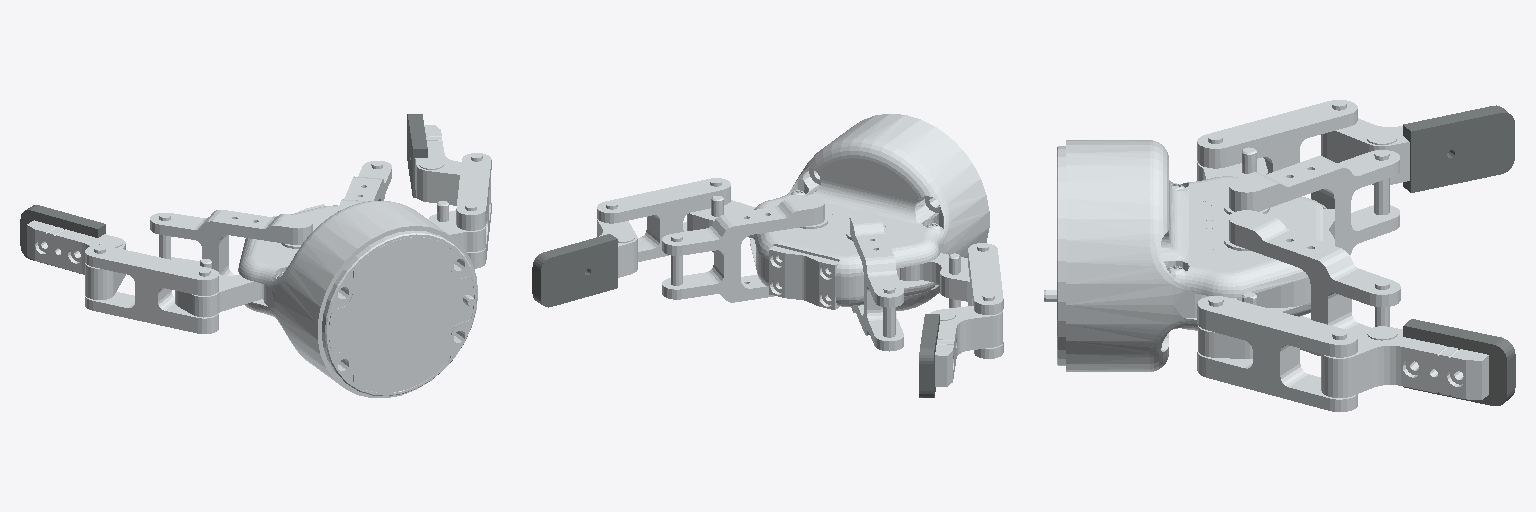
The robot description file, URDF, robot "ur5e":
<?xml version="1.0" encoding="utf-8"?>

<robot name="ur5e" xmlns:xacro="http://ros.org/wiki/xacro">

  <link name="base_link">
    <visual>
      <geometry>
        <mesh filename="./meshes/ur5e/visual/base.dae"/>
      </geometry>
      <material name="LightGrey">
        <color rgba="0.7 0.7 0.7 1.0"/>
      </material>
    </visual>
    <collision>
      <geometry>
        <mesh filename="./meshes/ur5e/collision/base.stl" scale="1.0 1.0 1.0"/>
      </geometry>
    </collision>
    <inertial>
      <mass value="4.0"/>
      <origin rpy="0 0 0" xyz="0.0 0.0 0.0"/>
      <inertia ixx="0.00443333156" ixy="0.0" ixz="0.0" iyy="0.00443333156" iyz="0.0" izz="0.0072"/>
    </inertial>
  </link>
  <joint name="shoulder_pan_joint" type="revolute">
    <parent link="base_link"/>
    <child link="shoulder_link"/>
    <origin rpy="0.0 0.0 0.0" xyz="0.0 0.0 0.163"/>
    <axis xyz="0 0 1"/>
    <limit effort="150.0" lower="-6.28318530718" upper="6.28318530718" velocity="3.14"/>
    <dynamics damping="0.0" friction="0.0"/>
  </joint>
  <link name="shoulder_link">
    <visual>
      <geometry>
        <mesh filename="./meshes/ur5e/visual/shoulder.dae"/>
      </geometry>
      <material name="LightGrey">
        <color rgba="0.7 0.7 0.7 1.0"/>
      </material>
    </visual>
    <collision>
      <geometry>
        <mesh filename="./meshes/ur5e/collision/shoulder.stl" scale="1.0 1.0 1.0"/>
      </geometry>
    </collision>
    <inertial>
      <mass value="3.7"/>
      <origin rpy="0 0 0" xyz="0.0 0.0 0.0"/>
      <inertia ixx="0.010267495893" ixy="0.0" ixz="0.0" iyy="0.010267495893" iyz="0.0" izz="0.00666"/>
    </inertial>
  </link>
  <joint name="shoulder_lift_joint" type="revolute">
    <parent link="shoulder_link"/>
    <child link="upper_arm_link"/>
    <origin rpy="0.0 1.57079632679 0.0" xyz="0.0 0.138 0.0"/>
    <axis xyz="0 1 0"/>
    <limit effort="150.0" lower="-6.28318530718" upper="6.28318530718" velocity="3.14"/>
    <dynamics damping="0.0" friction="0.0"/>
  </joint>
  <link name="upper_arm_link">
    <visual>
      <geometry>
        <mesh filename="./meshes/ur5e/visual/upperarm.dae"/>
      </geometry>
      <material name="LightGrey">
        <color rgba="0.7 0.7 0.7 1.0"/>
      </material>
    </visual>
    <collision>
      <geometry>
        <mesh filename="./meshes/ur5e/collision/upperarm.stl" scale="1.0 1.0 1.0"/>
      </geometry>
    </collision>
    <inertial>
      <mass value="8.393"/>
      <origin rpy="0 0 0" xyz="0.0 0.0 0.2125"/>
      <inertia ixx="0.133885781862" ixy="0.0" ixz="0.0" iyy="0.133885781862" iyz="0.0" izz="0.0151074"/>
    </inertial>
  </link>
  <joint name="elbow_joint" type="revolute">
    <parent link="upper_arm_link"/>
    <child link="forearm_link"/>
    <origin rpy="0.0 0.0 0.0" xyz="0.0 -0.131 0.425"/>
    <axis xyz="0 1 0"/>
    <limit effort="150.0" lower="-3.14159265359" upper="3.14159265359" velocity="3.14"/>
    <dynamics damping="0.0" friction="0.0"/>
  </joint>
  <link name="forearm_link">
    <visual>
      <geometry>
        <mesh filename="./meshes/ur5e/visual/forearm.dae"/>
      </geometry>
      <material name="LightGrey">
        <color rgba="0.7 0.7 0.7 1.0"/>
      </material>
    </visual>
    <collision>
      <geometry>
        <mesh filename="./meshes/ur5e/collision/forearm.stl" scale="1.0 1.0 1.0"/>
      </geometry>
    </collision>
    <inertial>
      <mass value="2.275"/>
      <origin rpy="0 0 0" xyz="0.0 0.0 0.196"/>
      <inertia ixx="0.0311796208615" ixy="0.0" ixz="0.0" iyy="0.0311796208615" iyz="0.0" izz="0.004095"/>
    </inertial>
  </link>
  <joint name="wrist_1_joint" type="revolute">
    <parent link="forearm_link"/>
    <child link="wrist_1_link"/>
    <origin rpy="0.0 1.57079632679 0.0" xyz="0.0 0.0 0.392"/>
    <axis xyz="0 1 0"/>
    <limit effort="28.0" lower="-6.28318530718" upper="6.28318530718" velocity="6.28"/>
    <dynamics damping="0.0" friction="0.0"/>
  </joint>
  <link name="wrist_1_link">
    <visual>
      <geometry>
        <mesh filename="./meshes/ur5e/visual/wrist1.dae"/>
      </geometry>
      <material name="LightGrey">
        <color rgba="0.7 0.7 0.7 1.0"/>
      </material>
    </visual>
    <collision>
      <geometry>
        <mesh filename="./meshes/ur5e/collision/wrist1.stl" scale="1.0 1.0 1.0"/>
      </geometry>
    </collision>
    <inertial>
      <mass value="1.219"/>
      <origin rpy="0 0 0" xyz="0.0 0.127 0.0"/>
      <inertia ixx="0.00255989897604" ixy="0.0" ixz="0.0" iyy="0.00255989897604" iyz="0.0" izz="0.0021942"/>
    </inertial>
  </link>
  <joint name="wrist_2_joint" type="revolute">
    <parent link="wrist_1_link"/>
    <child link="wrist_2_link"/>
    <origin rpy="0.0 0.0 0.0" xyz="0.0 0.127 0.0"/>
    <axis xyz="0 0 1"/>
    <limit effort="28.0" lower="-6.28318530718" upper="6.28318530718" velocity="6.28"/>
    <dynamics damping="0.0" friction="0.0"/>
  </joint>
  <link name="wrist_2_link">
    <visual>
      <geometry>
        <mesh filename="./meshes/ur5e/visual/wrist2.dae"/>
      </geometry>
      <material name="LightGrey">
        <color rgba="0.7 0.7 0.7 1.0"/>
      </material>
    </visual>
    <collision>
      <geometry>
        <mesh filename="./meshes/ur5e/collision/wrist2.stl" scale="1.0 1.0 1.0"/>
      </geometry>
    </collision>
    <inertial>
      <mass value="1.219"/>
      <origin rpy="0 0 0" xyz="0.0 0.0 0.1"/>
      <inertia ixx="0.00255989897604" ixy="0.0" ixz="0.0" iyy="0.00255989897604" iyz="0.0" izz="0.0021942"/>
    </inertial>
  </link>
  <joint name="wrist_3_joint" type="revolute">
    <parent link="wrist_2_link"/>
    <child link="wrist_3_link"/>
    <origin rpy="0.0 0.0 0.0" xyz="0.0 0.0 0.1"/>
    <axis xyz="0 1 0"/>
    <limit effort="28.0" lower="-6.28318530718" upper="6.28318530718" velocity="6.28"/>
    <dynamics damping="0.0" friction="0.0"/>
  </joint>
  <link name="wrist_3_link">
    <visual>
      <geometry>
        <mesh filename="./meshes/ur5e/visual/wrist3.dae"/>
      </geometry>
      <material name="LightGrey">
        <color rgba="0.7 0.7 0.7 1.0"/>
      </material>
    </visual>
    <collision>
      <geometry>
        <mesh filename="./meshes/ur5e/collision/wrist3.stl" scale="1.0 1.0 1.0"/>
      </geometry>
    </collision>
    <inertial>
      <mass value="0.1879"/>
      <origin rpy="1.57079632679 0 0" xyz="0.0 0.0771 0.0"/>
      <inertia ixx="9.89041005217e-05" ixy="0.0" ixz="0.0" iyy="9.89041005217e-05" iyz="0.0" izz="0.0001321171875"/>
    </inertial>
  </link>
  <joint name="ee_fixed_joint" type="fixed">
    <parent link="wrist_3_link"/>
    <child link="ee_link"/>
    <origin rpy="0.0 0.0 1.57079632679" xyz="0.0 0.1 0.0"/>
  </joint>
  <link name="ee_link">
    <collision>
      <geometry>
        <box size="0.01 0.01 0.01"/>
      </geometry>
      <origin rpy="0 0 0" xyz="-0.01 0 0"/>
    </collision>
  </link>
  <!-- ADD GRIPPER HERE -->
  <joint name="ee_link_gripper_base_joint" type="fixed">
    <origin rpy="0 0 1.5707963267948966" xyz="0 0 0"/>
    <parent link="ee_link"/>
    <child link="gripper_base"/>
  </joint>
  <link name="gripper_base">
    <inertial>
      <origin rpy="0 0 0" xyz="6.91E-06 4.4117E-06 0.031656"/>
      <mass value="0.60831"/>
      <inertia ixx="0.0004596" ixy="1.5559E-09" ixz="1.397E-07" iyy="0.0005181" iyz="-1.0325E-11" izz="0.00036051"/>
    </inertial>
    <visual>
      <origin rpy="0 0 0" xyz="0 0 0"/>
      <geometry>
        <mesh filename="./meshes/robotiq_2f85/base.STL"/>
      </geometry>
      <material name="">
        <color rgba="0.89804 0.91765 0.92941 0.25"/>
      </material>
    </visual>
    <collision>
      <origin rpy="0 0 0" xyz="0 0 0"/>
      <geometry>
        <mesh filename="./meshes/robotiq_2f85/base.STL"/>
      </geometry>
    </collision>
  </link>
  <link name="gripper_right_spring_link">
    <inertial>
      <origin rpy="0 0 0" xyz="-9.7222E-12 0.028253 6.791E-10"/>
      <mass value="0.029951"/>
      <inertia ixx="1.5103E-05" ixy="-1.0709E-16" ixz="-2.654E-15" iyy="5.0789E-06" iyz="3.2666E-14" izz="1.0707E-05"/>
    </inertial>
    <visual>
      <origin rpy="0 0 0" xyz="0 0 0"/>
      <geometry>
        <mesh filename="./meshes/robotiq_2f85/right_spring_link.STL"/>
      </geometry>
      <material name="">
        <color rgba="0.89804 0.91765 0.92941 1"/>
      </material>
    </visual>
    <collision>
      <origin rpy="0 0 0" xyz="0 0 0"/>
      <geometry>
        <mesh filename="./meshes/robotiq_2f85/right_spring_link.STL"/>
      </geometry>
    </collision>
  </link>
  <joint name="gripper_right_spring_link_joint" type="revolute">
    <origin rpy="3.1416 0 0.6983" xyz="0.0127 -0.061307 0"/>
    <parent link="gripper_base"/>
    <child link="gripper_right_spring_link"/>
    <axis xyz="0 0 1"/>
    <limit effort="0" lower="0" upper="0.7854" velocity="0"/>
  </joint>
  <link name="gripper_left_spring_link">
    <inertial>
      <origin rpy="0 0 0" xyz="-8.05421701555176E-13 0.0282525952540491 7.27854432947014E-10"/>
      <mass value="0.0299513316731757"/>
      <inertia ixx="1.51025275365861E-05" ixy="1.3893966137107E-16" ixz="-5.21047318848845E-15" iyy="5.07891354120236E-06" iyz="3.47379370230503E-14" izz="1.0706817344978E-05"/>
    </inertial>
    <visual>
      <origin rpy="0 0 0" xyz="0 0 0"/>
      <geometry>
        <mesh filename="./meshes/robotiq_2f85/left_spring_link.STL"/>
      </geometry>
      <material name="">
        <color rgba="0.898039215686275 0.917647058823529 0.929411764705882 1"/>
      </material>
    </visual>
    <collision>
      <origin rpy="0 0 0" xyz="0 0 0"/>
      <geometry>
        <mesh filename="./meshes/robotiq_2f85/left_spring_link.STL"/>
      </geometry>
    </collision>
  </link>
  <joint name="gripper_left_spring_link_joint" type="revolute">
    <origin rpy="3.1416 0 -0.70092" xyz="-0.0127 -0.061307 0"/>
    <parent link="gripper_base"/>
    <child link="gripper_left_spring_link"/>
    <axis xyz="0 0 1"/>
    <limit effort="0" lower="-0.7854" upper="0" velocity="0"/>
  </joint>
  <link name="gripper_right_driver">
    <inertial>
      <origin rpy="0 0 0" xyz="0.0179377478479594 0.000926031753317007 -4.0741034207454E-11"/>
      <mass value="0.0184906489409923"/>
      <inertia ixx="6.79440339903172E-07" ixy="-2.0728790158877E-07" ixz="5.46290681974064E-15" iyy="3.45929623837714E-06" iyz="7.55029433009734E-15" izz="3.75009298146153E-06"/>
    </inertial>
    <visual>
      <origin rpy="0 0 0" xyz="0 0 0"/>
      <geometry>
        <mesh filename="./meshes/robotiq_2f85/right_driver.STL"/>
      </geometry>
      <material name="">
        <color rgba="0.898039215686275 0.917647058823529 0.929411764705882 1"/>
      </material>
    </visual>
    <collision>
      <origin rpy="0 0 0" xyz="0 0 0"/>
      <geometry>
        <mesh filename="./meshes/robotiq_2f85/right_driver.STL"/>
      </geometry>
    </collision>
  </link>
  <joint name="gripper_right_driver_joint" type="revolute">
    <origin rpy="3.1416 0 -0.019735" xyz="0.030601 -0.054792 0"/>
    <parent link="gripper_base"/>
    <child link="gripper_right_driver"/>
    <axis xyz="0 0 1"/>
    <limit effort="150" lower="-3.1416" upper="3.1416" velocity="0"/>
  </joint>
  <link name="gripper_right_coupler">
    <inertial>
      <origin rpy="0 0 0" xyz="-0.00277693278884095 0.0214010778170948 -2.64117771736162E-15"/>
      <mass value="0.0273093985570947"/>
      <inertia ixx="8.4351877262463E-06" ixy="8.05599897942411E-07" ixz="3.98563616297657E-19" iyy="2.33117687880373E-06" iyz="-6.91949626399278E-19" izz="6.9133328065108E-06"/>
    </inertial>
    <visual>
      <origin rpy="0 0 0" xyz="0 0 0"/>
      <geometry>
        <mesh filename="./meshes/robotiq_2f85/right_coupler.STL"/>
      </geometry>
      <material name="">
        <color rgba="0.898039215686275 0.917647058823529 0.929411764705882 1"/>
      </material>
    </visual>
    <collision>
      <origin rpy="0 0 0" xyz="0 0 0"/>
      <geometry>
        <mesh filename="./meshes/robotiq_2f85/right_coupler.STL"/>
      </geometry>
    </collision>
  </link>
  <joint name="gripper_right_coupler_joint" type="revolute">
    <origin rpy="0 0 -0.25804" xyz="0.031486 -0.0040855 0"/>
    <parent link="gripper_right_driver"/>
    <child link="gripper_right_coupler"/>
    <axis xyz="0 0 -1"/>
    <limit effort="0" lower="0.13" upper="0.79" velocity="0"/>
  </joint>
  <link name="gripper_right_follower">
    <inertial>
      <origin rpy="0 0 0" xyz="0.0118738800643238 0.013213950103123 -6.42371679073841E-16"/>
      <mass value="0.0195548943464751"/>
      <inertia ixx="3.99125345460037E-06" ixy="-9.32228708142781E-07" ixz="-1.06756339811242E-18" iyy="1.28831055431048E-06" iyz="-9.53069862405573E-19" izz="4.59174098263665E-06"/>
    </inertial>
    <visual>
      <origin rpy="0 0 0" xyz="0 0 0"/>
      <geometry>
        <mesh filename="./meshes/robotiq_2f85/right_follower.STL"/>
      </geometry>
      <material name="">
        <color rgba="0.898039215686275 0.917647058823529 0.929411764705882 1"/>
      </material>
    </visual>
    <collision>
      <origin rpy="0 0 0" xyz="0 0 0"/>
      <geometry>
        <mesh filename="./meshes/robotiq_2f85/right_follower.STL"/>
      </geometry>
    </collision>
  </link>
  <joint name="gripper_right_follower_joint" type="revolute">
    <origin rpy="3.1416 0 -2.9033" xyz="-0.0061148 0.047125 0"/>
    <parent link="gripper_right_coupler"/>
    <child link="gripper_right_follower"/>
    <axis xyz="0 0 1"/>
    <limit effort="0" lower="-3.1416" upper="3.1416" velocity="0"/>
  </joint>
  <link name="gripper_right_pad">
    <inertial>
      <origin rpy="0 0 0" xyz="0.000197179990555962 0.003 -5.73415880070697E-15"/>
      <mass value="0.0112846745192962"/>
      <inertia ixx="4.84198905594698E-07" ixy="1.17467826101044E-22" ixz="-2.69493952498347E-22" iyy="1.75287448520128E-06" iyz="3.01393554780919E-23" izz="1.33638362672235E-06"/>
    </inertial>
    <visual>
      <origin rpy="0 0 0" xyz="0 0 0"/>
      <geometry>
        <mesh filename="./meshes/robotiq_2f85/right_pad.STL"/>
      </geometry>
      <material name="">
        <color rgba="0.529411764705882 0.549019607843137 0.549019607843137 1"/>
      </material>
    </visual>
    <collision>
      <origin rpy="0 0 0" xyz="0 0 0"/>
      <geometry>
        <mesh filename="./meshes/robotiq_2f85/right_pad.STL"/>
      </geometry>
    </collision>
  </link>
  <joint name="gripper_right_pad_joint" type="fixed">
    <origin rpy="3.1416 0 -1.5708" xyz="0.024903 0.032264 0"/>
    <parent link="gripper_right_follower"/>
    <child link="gripper_right_pad"/>
    <axis xyz="0 1 0"/>
    <limit effort="5" lower="0" upper="0.003" velocity="0.1"/>
  </joint>
  <link name="gripper_left_driver">
    <inertial>
      <origin rpy="0 0 0" xyz="0.0179377478480944 0.000926031754016808 -4.09476305946672E-11"/>
      <mass value="0.0184906489414316"/>
      <inertia ixx="6.79440340033055E-07" ixy="-2.07287901659297E-07" ixz="5.48822371152932E-15" iyy="3.45929623843939E-06" iyz="7.56200742857023E-15" izz="3.75009298156646E-06"/>
    </inertial>
    <visual>
      <origin rpy="0 0 0" xyz="0 0 0"/>
      <geometry>
        <mesh filename="./meshes/robotiq_2f85/left_driver.STL"/>
      </geometry>
      <material name="">
        <color rgba="0.898039215686275 0.917647058823529 0.929411764705882 1"/>
      </material>
    </visual>
    <collision>
      <origin rpy="0 0 0" xyz="0 0 0"/>
      <geometry>
        <mesh filename="./meshes/robotiq_2f85/left_driver.STL"/>
      </geometry>
    </collision>
  </link>
  <joint name="gripper_left_driver_joint" type="revolute">
    <origin rpy="0 0 -3.1245" xyz="-0.030601 -0.054792 0"/>
    <parent link="gripper_base"/>
    <child link="gripper_left_driver"/>
    <axis xyz="0 0 1"/>
    <limit effort="150" lower="-3.1416" upper="3.1416" velocity="0"/>
  </joint>
  <link name="gripper_left_coupler">
    <inertial>
      <origin rpy="0 0 0" xyz="-0.00277693278884093 0.0214010778170948 -2.65696393157366E-15"/>
      <mass value="0.0273093985570947"/>
      <inertia ixx="8.43518772624629E-06" ixy="8.05599897942414E-07" ixz="3.98028057558574E-19" iyy="2.33117687880373E-06" iyz="-6.91715450328278E-19" izz="6.9133328065108E-06"/>
    </inertial>
    <visual>
      <origin rpy="0 0 0" xyz="0 0 0"/>
      <geometry>
        <mesh filename="./meshes/robotiq_2f85/left_coupler.STL"/>
      </geometry>
      <material name="">
        <color rgba="0.898039215686275 0.917647058823529 0.929411764705882 1"/>
      </material>
    </visual>
    <collision>
      <origin rpy="0 0 0" xyz="0 0 0"/>
      <geometry>
        <mesh filename="./meshes/robotiq_2f85/left_coupler.STL"/>
      </geometry>
    </collision>
  </link>
  <joint name="gripper_left_coupler_joint" type="revolute">
    <origin rpy="3.1416 0 -3.1416" xyz="0.031486 -0.0040855 0"/>
    <parent link="gripper_left_driver"/>
    <child link="gripper_left_coupler"/>
    <axis xyz="0 0 1"/>
    <limit effort="0" lower="0.13" upper="0.79" velocity="0"/>
  </joint>
  <link name="gripper_left_follower">
    <inertial>
      <origin rpy="0 0 0" xyz="0.0118738800643238 0.013213950103123 2.13813023929037E-15"/>
      <mass value="0.0195548943464751"/>
      <inertia ixx="3.99125345460038E-06" ixy="-9.32228708142783E-07" ixz="-1.06843707618223E-18" iyy="1.28831055431048E-06" iyz="-9.54631781105362E-19" izz="4.59174098263666E-06"/>
    </inertial>
    <visual>
      <origin rpy="0 0 0" xyz="0 0 0"/>
      <geometry>
        <mesh filename="./meshes/robotiq_2f85/left_follower.STL"/>
      </geometry>
      <material name="">
        <color rgba="0.898039215686275 0.917647058823529 0.929411764705882 1"/>
      </material>
    </visual>
    <collision>
      <origin rpy="0 0 0" xyz="0 0 0"/>
      <geometry>
        <mesh filename="./meshes/robotiq_2f85/left_follower.STL"/>
      </geometry>
    </collision>
  </link>
  <joint name="gripper_left_follower_joint" type="revolute">
    <origin rpy="0 0 0.017192" xyz="-0.0061148 0.047125 0"/>
    <parent link="gripper_left_coupler"/>
    <child link="gripper_left_follower"/>
    <axis xyz="0 0 1"/>
    <limit effort="0" lower="-3.1416" upper="3.1416" velocity="0"/>
  </joint>
  <link name="gripper_left_pad">
    <inertial>
      <origin rpy="0 0 0" xyz="0.00019717999055599 0.003 8.49842392779646E-15"/>
      <mass value="0.0112846745192961"/>
      <inertia ixx="4.84198905594697E-07" ixy="7.66025016740815E-22" ixz="4.8234593310579E-23" iyy="1.75287448520127E-06" iyz="-9.35905899337494E-24" izz="1.33638362672235E-06"/>
    </inertial>
    <visual>
      <origin rpy="0 0 0" xyz="0 0 0"/>
      <geometry>
        <mesh filename="./meshes/robotiq_2f85/left_pad.STL"/>
      </geometry>
      <material name="">
        <color rgba="0.529411764705882 0.549019607843137 0.549019607843137 1"/>
      </material>
    </visual>
    <collision>
      <origin rpy="0 0 0" xyz="0 0 0"/>
      <geometry>
        <mesh filename="./meshes/robotiq_2f85/left_pad.STL"/>
      </geometry>
    </collision>
  </link>
  <joint name="gripper_left_pad_joint" type="prismatic">
    <origin rpy="0 0 -1.5708" xyz="0.018903 0.032265 0"/>
    <parent link="gripper_left_follower"/>
    <child link="gripper_left_pad"/>
    <axis xyz="0 -1 0"/>
    <limit effort="5" lower="0" upper="0.003" velocity="0.1"/>
  </joint>
  <!-- Add a Tool Center Point reference as a convenience.
        The TCP is at 18.75mm from the tip of the gripper as its located in
        the middle of the pad. As a result, if the TCP is at 18.75mm above the floor,
        it means that the gripper touches the floor. If you want the TCP to
        be located at the tip of the gripper, use 0.14948 instead of 0.13073 -->
  <joint name="tool_center_point" type="fixed">
    <origin rpy="1.5707963267948966 1.5707963267948966 0" xyz="0 -0.14948 0"/>
    <parent link="gripper_base"/>
    <child link="tcp"/>
  </joint>
  <link name="tcp">
    <!-- If no inertial parameters are supplied, PyBullet will use a mass of 1Kg. -->
    <inertial>
      <mass value="0"/>
      <inertia ixx="0.0" ixy="0.0" ixz="0.0" iyy="0.0" iyz="0.0" izz="0.0"/>
    </inertial>
  </link>
  <!-- ROS base_link to UR 'Base' Coordinates transform -->
  <!-- <link name="base"/>
  <joint name="base_link-base_fixed_joint" type="fixed">
    <origin rpy="0 0 -3.14159265359" xyz="0 0 0"/>
    <parent link="base_link"/>
    <child link="base"/>
  </joint> -->
  <!-- Frame coincident with all-zeros TCP on UR controller -->
  <!-- <link name="tool0"/>
  <joint name="wrist_3_link-tool0_fixed_joint" type="fixed">
    <origin rpy="-1.57079632679 0 0" xyz="0 0.1 0"/>
    <parent link="wrist_3_link"/>
    <child link="tool0"/>
  </joint>
  <link name="world"/>
  <joint name="world_joint" type="fixed">
    <parent link="world"/>
    <child link="base_link"/>
    <origin rpy="0.0 0.0 0.0" xyz="0.0 0.0 0.0"/>
  </joint> -->
</robot>

--- Facts derived from the render (not from the file) ---
3 views of the same robot in one strip: view 1: azimuth 30°, elevation 25°; view 2: azimuth 150°, elevation 25°; view 3: azimuth 270°, elevation 25° (orthographic).
Robot: ur5e — 20 links, 19 joints (14 revolute, 1 prismatic, 4 fixed); root link base_link; default pose: all joints at 0 but 2 set to mid-range because 0 is outside their limits (gripper_right_coupler_joint = 0.46, gripper_left_coupler_joint = 0.46).
Links seen in each view (by area): view 1: gripper_base, gripper_left_coupler, gripper_left_spring_link, gripper_left_follower, gripper_right_coupler, gripper_right_follower, gripper_left_driver, gripper_left_pad, gripper_right_spring_link, gripper_right_driver, gripper_right_pad; view 2: gripper_base, gripper_right_spring_link, gripper_left_spring_link, gripper_right_pad, gripper_right_coupler, gripper_left_follower, gripper_left_coupler, gripper_left_driver, gripper_left_pad, gripper_right_follower, gripper_right_driver; view 3: gripper_base, gripper_right_coupler, gripper_left_spring_link, gripper_right_spring_link, gripper_right_follower, gripper_left_pad, gripper_left_coupler, gripper_right_pad, gripper_left_follower, gripper_right_driver, gripper_left_driver.
Boxes of the visible links, box(x1,y1,x2,y2) form: gripper_base: box(238, 201, 477, 397); gripper_left_coupler: box(85, 245, 218, 333); gripper_left_spring_link: box(150, 210, 312, 275); gripper_left_follower: box(27, 220, 125, 299); gripper_right_coupler: box(456, 153, 491, 268); gripper_right_follower: box(415, 125, 490, 205); gripper_left_driver: box(175, 259, 263, 317); gripper_left_pad: box(20, 205, 105, 273); gripper_right_spring_link: box(338, 161, 391, 211); gripper_right_driver: box(428, 201, 485, 251); gripper_right_pad: box(407, 114, 427, 197); gripper_base: box(750, 114, 989, 310); gripper_right_spring_link: box(662, 196, 824, 302); gripper_left_spring_link: box(850, 209, 903, 351); gripper_right_pad: box(532, 234, 617, 307); gripper_right_coupler: box(597, 178, 730, 261); gripper_left_follower: box(930, 306, 1002, 386); gripper_left_coupler: box(968, 243, 1003, 358); gripper_left_driver: box(900, 253, 969, 307); gripper_left_pad: box(919, 314, 939, 397); gripper_right_follower: box(597, 219, 637, 277); gripper_right_driver: box(687, 196, 755, 252); gripper_base: box(1044, 140, 1334, 371); gripper_right_coupler: box(1197, 296, 1357, 411); gripper_left_spring_link: box(1229, 150, 1399, 254); gripper_right_spring_link: box(1229, 210, 1400, 355); gripper_right_follower: box(1321, 326, 1488, 399); gripper_left_pad: box(1403, 105, 1514, 192); gripper_left_coupler: box(1197, 100, 1357, 173); gripper_right_pad: box(1403, 319, 1515, 405); gripper_left_follower: box(1321, 118, 1409, 184); gripper_right_driver: box(1198, 292, 1256, 358); gripper_left_driver: box(1197, 147, 1267, 180).
Bounding box of the posed robot: 0.1903 × 0.1522 × 0.075 m (x, y, z).
11 mesh visuals loaded from 18 distinct referenced files (11 binary STL); not drawn: 7 (reference not matched to a file when rendering).
